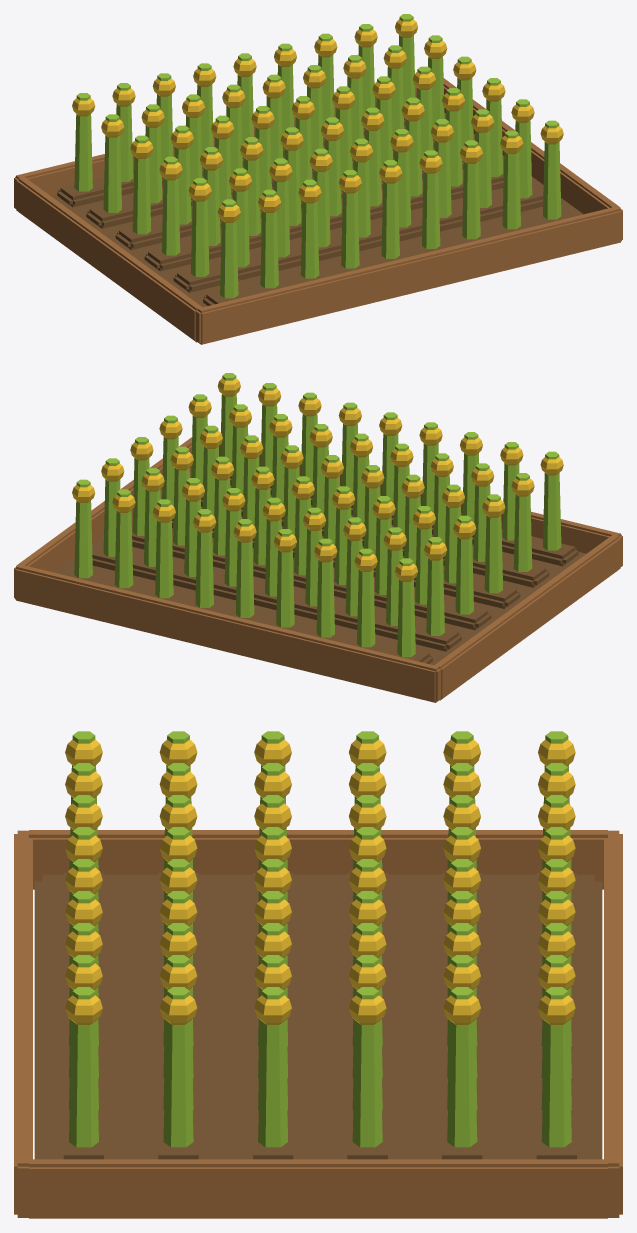
Rendered from field_corn.glb.
3 renders of one model, top to bottom at view 1: azimuth 30°, elevation 25°; view 2: azimuth 150°, elevation 25°; view 3: azimuth 270°, elevation 25°, orthographic. The views are drawn at different scales.
Visible parts, largest first — view 1: field_corn; view 2: field_corn; view 3: field_corn.
Part boxes in pixels (x1=…): field_corn: x1=14, y1=14, x2=622, y2=344; field_corn: x1=14, y1=373, x2=622, y2=702; field_corn: x1=14, y1=731, x2=622, y2=1218.
Bounding box in the file's own units: 2.11 × 0.55 × 1.61.
